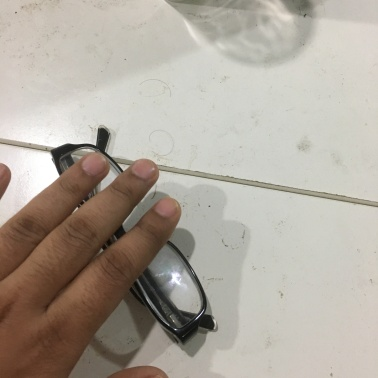glasses: (39, 137, 210, 340)
